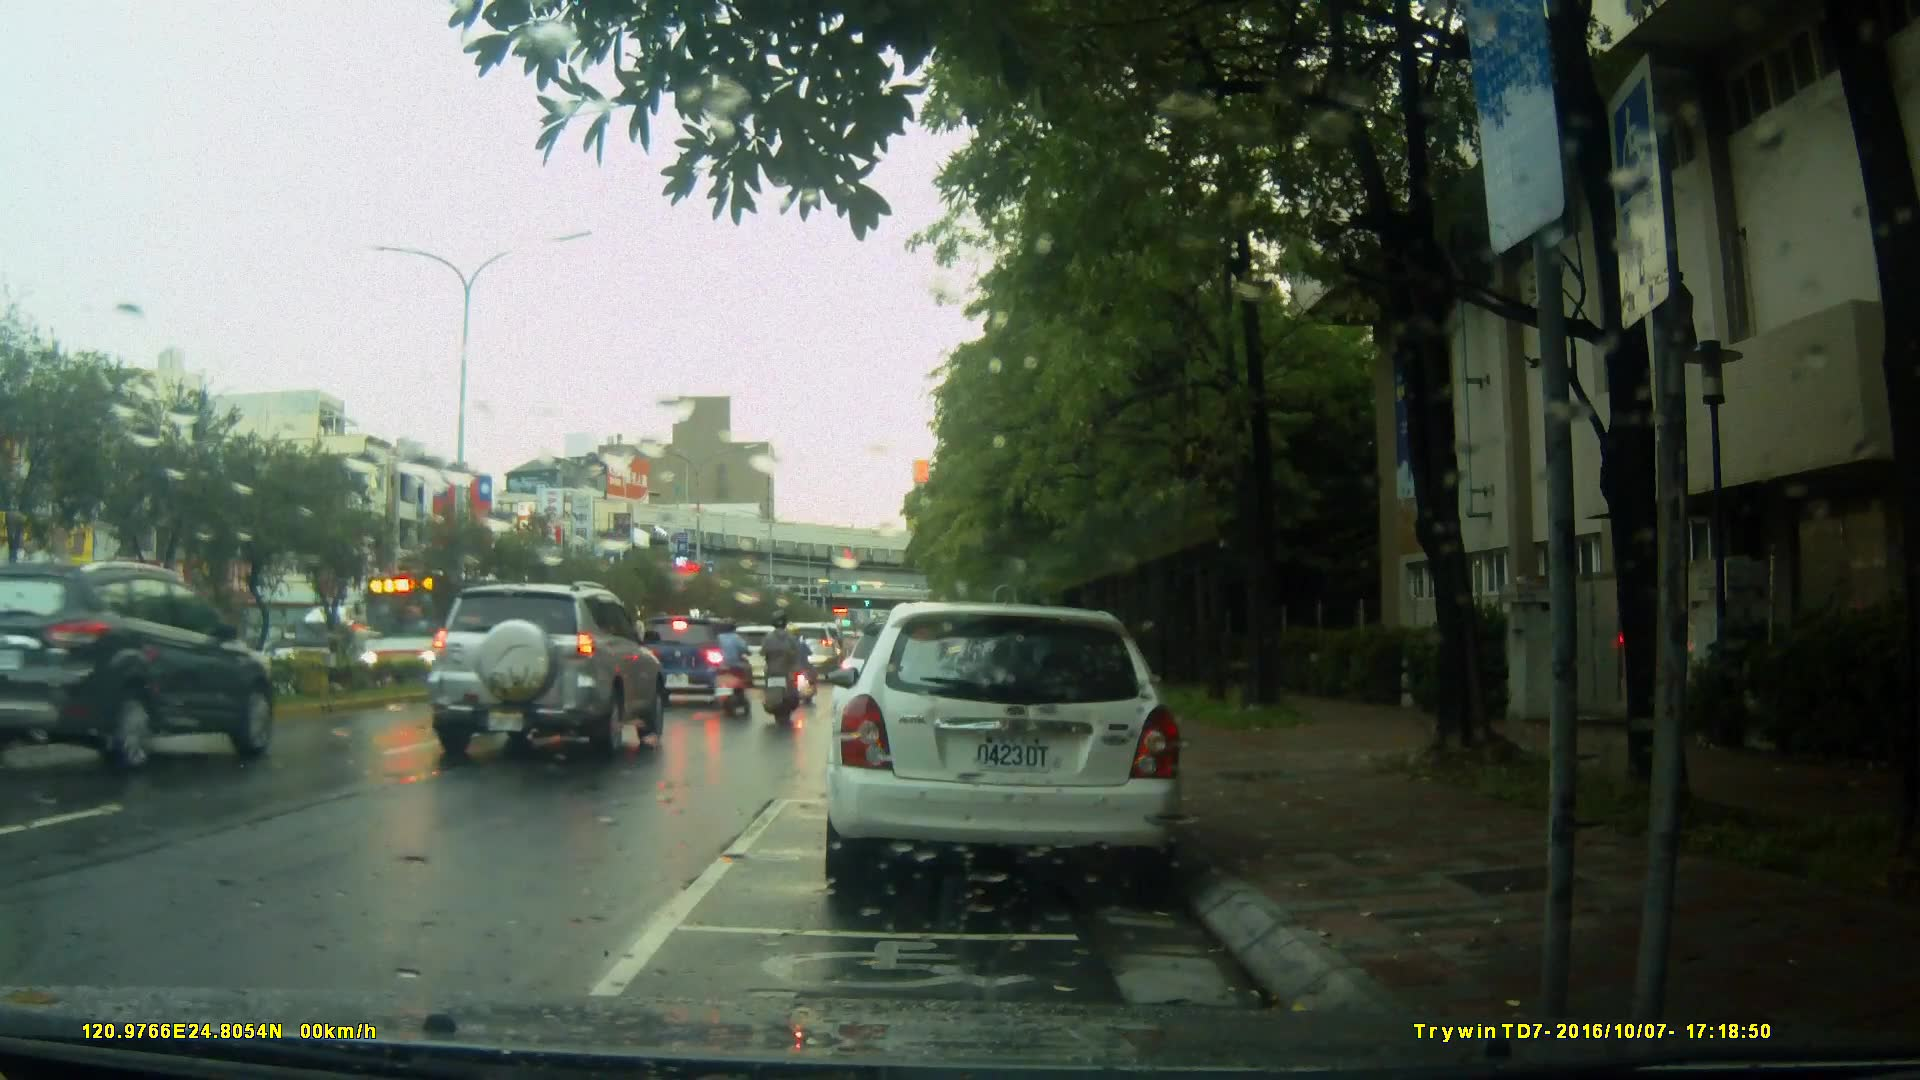rider: (756, 608, 802, 726), (716, 619, 754, 714), (782, 624, 819, 712)
vehicle: (820, 602, 1188, 898), (1, 559, 283, 774), (419, 579, 668, 759), (634, 613, 760, 707)
